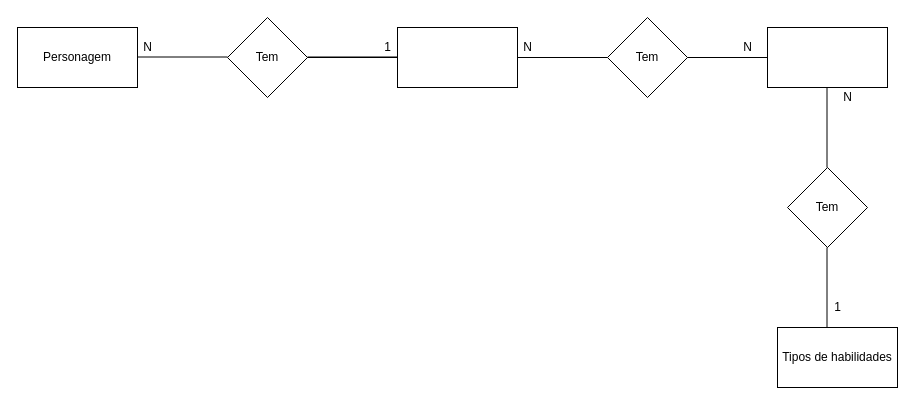
Some shapes in this 915 by 405 pixel diagram are drawn without their labels. Here are the shapes that lost their labels. From the top down, the centre of each, then its label:
[457,57]: Classes
[827,57]: Habilidades
